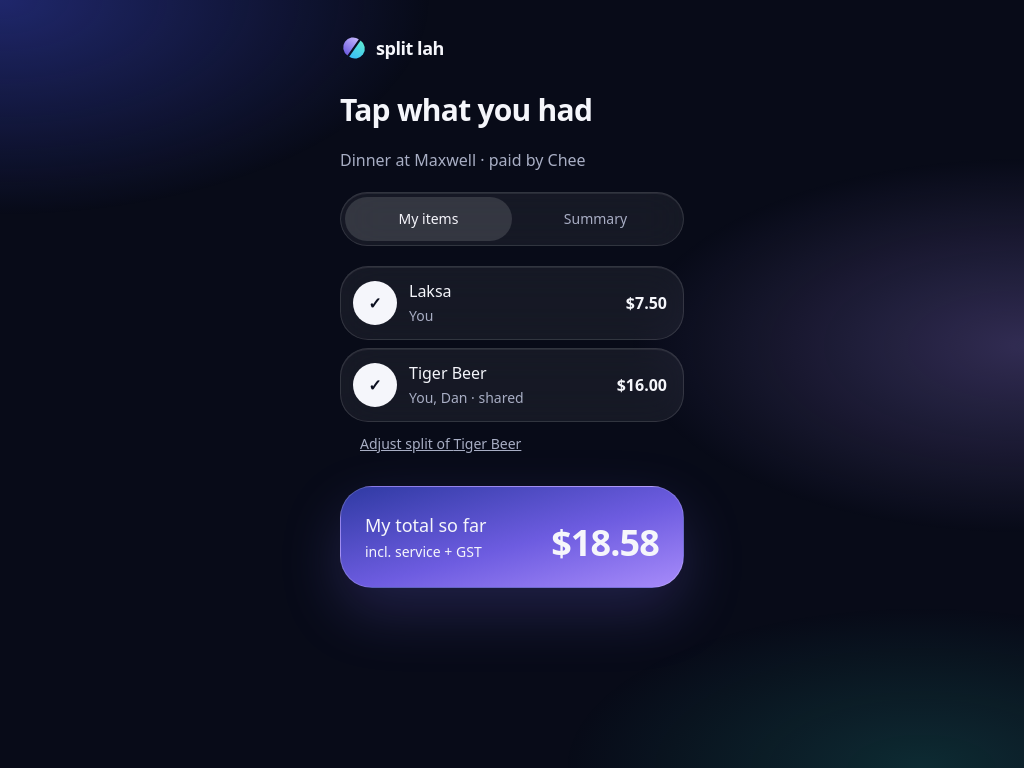
Test case: Adjust split › opens with what is already saved
Click the button "Adjust split of Tiger Beer".
click(441, 444)  # box [340, 422, 541, 466]
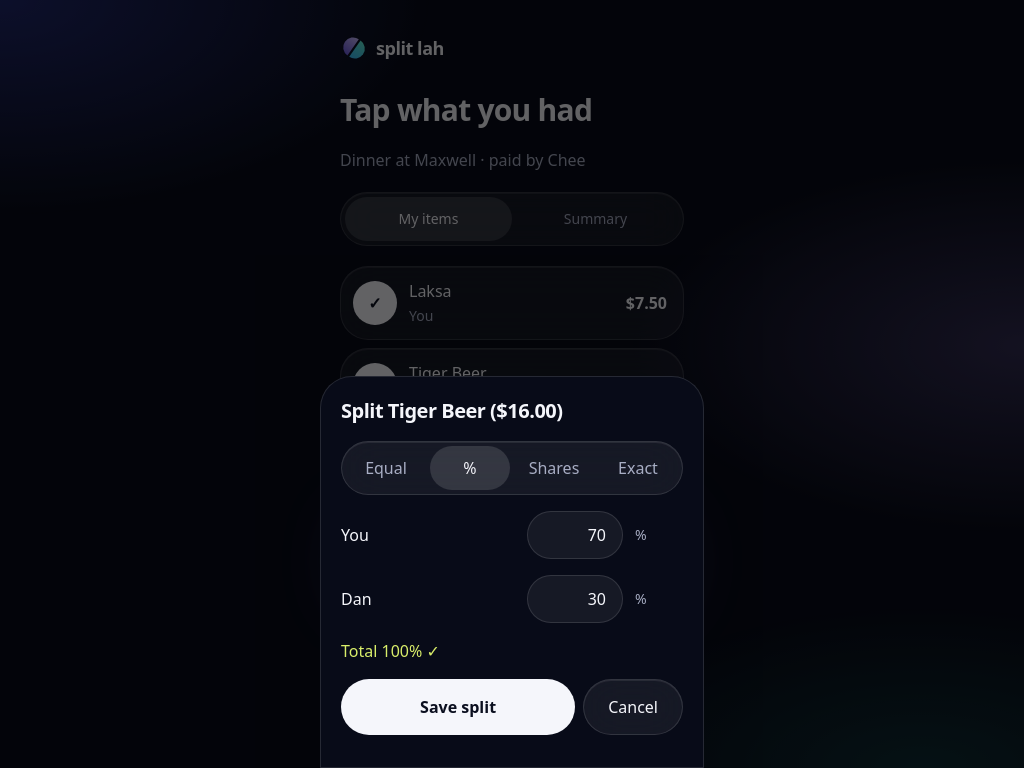
Expected: the field labelled "You %" holds "70", [527, 511, 623, 559]
Expected: the field labelled "Dan %" holds "30", [527, 575, 623, 623]
